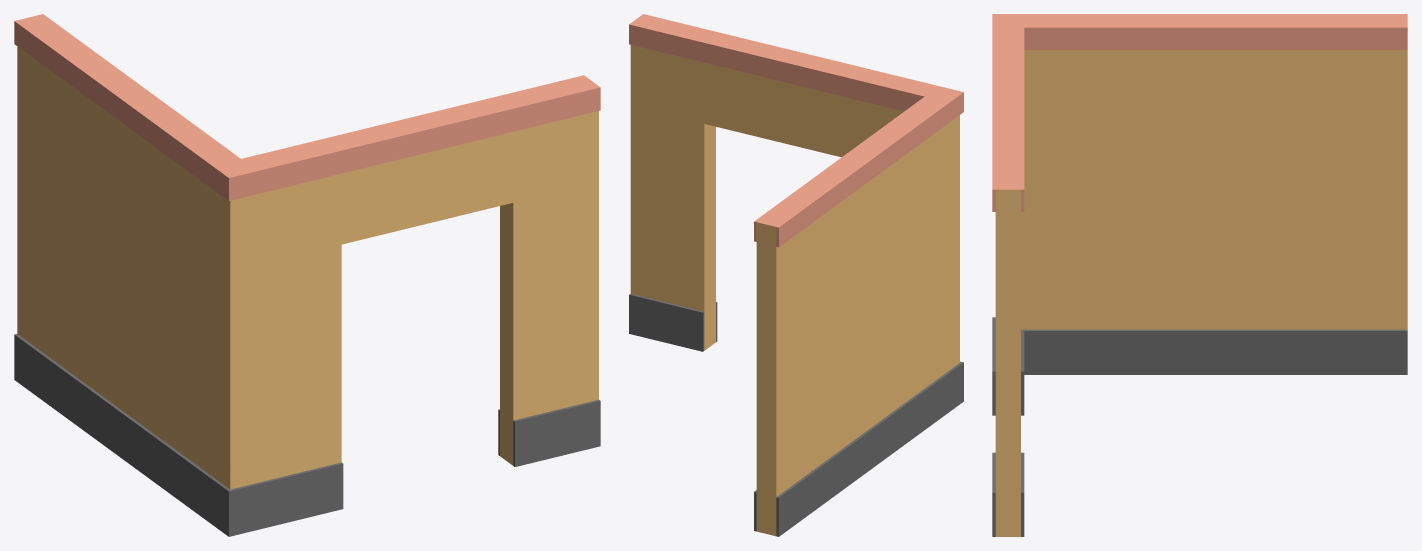
File: Wall03-01.fbx
3 views of the same model, side by side, from view 1: azimuth 30°, elevation 25°; view 2: azimuth 150°, elevation 25°; view 3: azimuth 270°, elevation 25° (orthographic). The views are drawn at different scales.
Visible parts, largest first — view 1: Wall03-01; view 2: Wall03-01; view 3: Wall03-01.
Part boxes in pixels (<box>): Wall03-01: <box>14,14,600,536</box>; Wall03-01: <box>629,14,963,536</box>; Wall03-01: <box>992,14,1407,536</box>.
Size of the model in its own units: 3.25 by 3.25 by 3.
